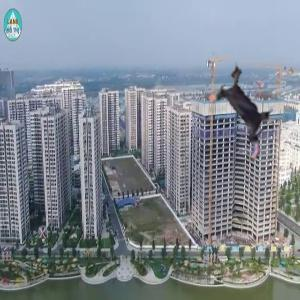drone: (198, 57, 295, 154)
